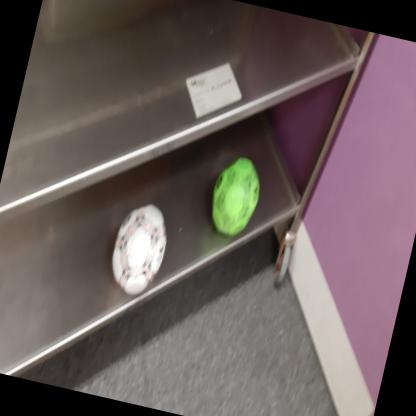ball: (105, 199, 175, 300), (204, 152, 268, 242)
